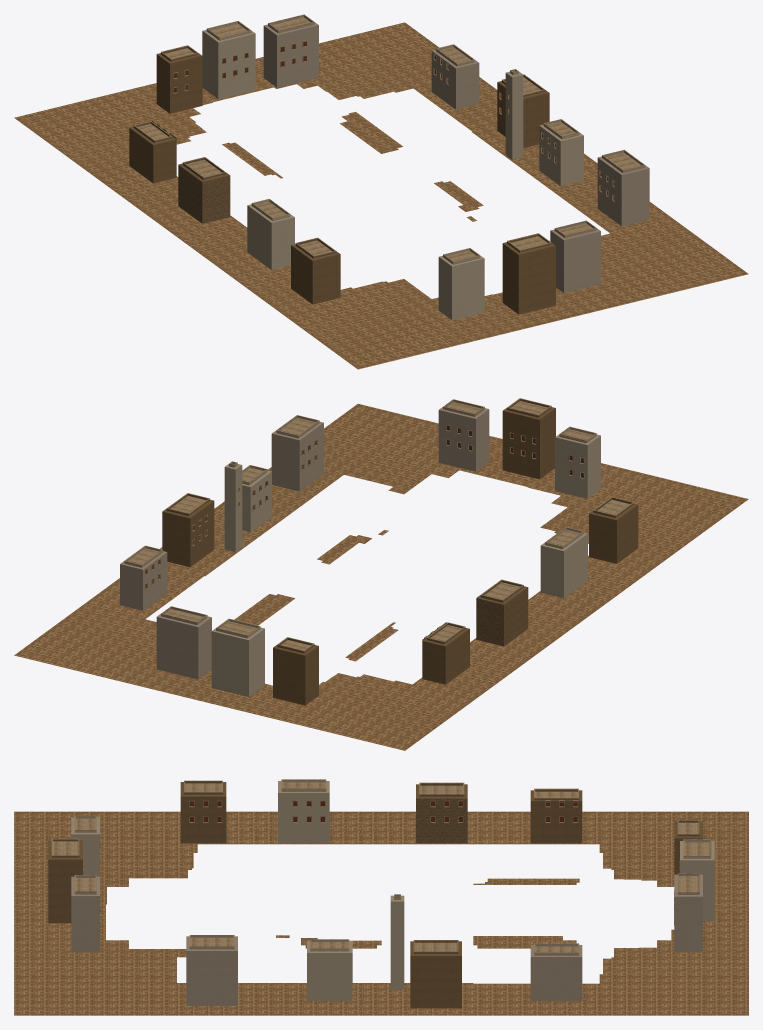
Rendered from bz04-shared-environment.glb.
3 views of the same model, one above another, from view 1: azimuth 30°, elevation 25°; view 2: azimuth 150°, elevation 25°; view 3: azimuth 270°, elevation 25° (orthographic). The views are drawn at different scales.
Visible parts, largest first — view 1: bz04_large_sandstone_blocks_01-receive, ph_bz04_beige_wall_002.002-cast, ph_bz04_plastered_wall.002-cast, ph_bz04_painted_plaster_warm.003-cast, ph_bz04_stone_trim_sandstone.004-cast, ph_bz04_sandstone_blocks_06.003-cast; view 2: bz04_large_sandstone_blocks_01-receive, ph_bz04_beige_wall_002.002-cast, ph_bz04_plastered_wall.002-cast, ph_bz04_painted_plaster_warm.003-cast, ph_bz04_stone_trim_sandstone.004-cast, ph_bz04_sandstone_blocks_06.003-cast; view 3: bz04_large_sandstone_blocks_01-receive, ph_bz04_beige_wall_002.002-cast, ph_bz04_painted_plaster_warm.003-cast, ph_bz04_plastered_wall.002-cast, ph_bz04_stone_trim_sandstone.004-cast, ph_bz04_sandstone_blocks_06.003-cast, ph_bz04_dark_wood.001-cast.
Part boxes in pixels (<box>): bz04_large_sandstone_blocks_01-receive: <box>14,22,748,369</box>; ph_bz04_beige_wall_002.002-cast: <box>129,46,555,314</box>; ph_bz04_plastered_wall.002-cast: <box>202,22,583,320</box>; ph_bz04_painted_plaster_warm.003-cast: <box>263,15,649,292</box>; ph_bz04_stone_trim_sandstone.004-cast: <box>133,14,645,264</box>; ph_bz04_sandstone_blocks_06.003-cast: <box>178,158,230,223</box>; bz04_large_sandstone_blocks_01-receive: <box>14,403,748,750</box>; ph_bz04_beige_wall_002.002-cast: <box>162,399,638,705</box>; ph_bz04_plastered_wall.002-cast: <box>211,427,600,696</box>; ph_bz04_painted_plaster_warm.003-cast: <box>120,400,489,679</box>; ph_bz04_stone_trim_sandstone.004-cast: <box>124,398,634,653</box>; ph_bz04_sandstone_blocks_06.003-cast: <box>476,580,528,646</box>; bz04_large_sandstone_blocks_01-receive: <box>14,811,748,1015</box>; ph_bz04_beige_wall_002.002-cast: <box>48,781,702,1008</box>; ph_bz04_painted_plaster_warm.003-cast: <box>71,874,702,1005</box>; ph_bz04_plastered_wall.002-cast: <box>71,780,714,1000</box>; ph_bz04_stone_trim_sandstone.004-cast: <box>51,779,711,955</box>; ph_bz04_sandstone_blocks_06.003-cast: <box>416,783,467,843</box>; ph_bz04_dark_wood.001-cast: <box>190,801,577,821</box>.
Size of the model in its own units: 84 by 17.5 by 128.
8 materials, 8 textured.
